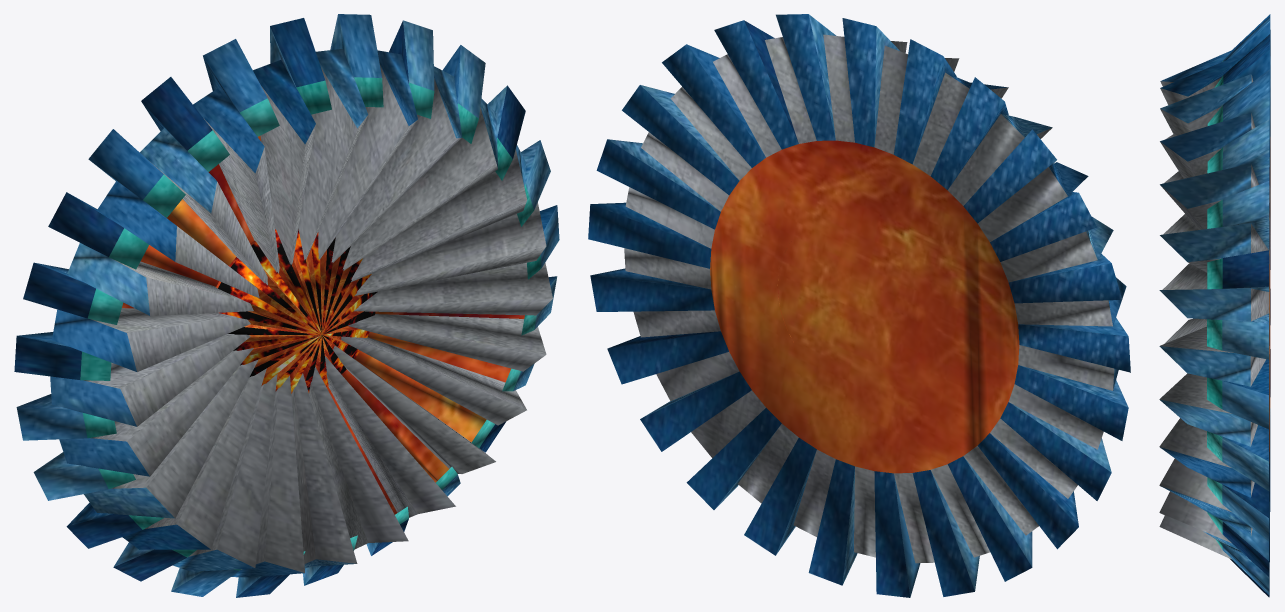
File: portail.obj
The picture shows the model from 3 angles, left to right: view 1: azimuth 30°, elevation 25°; view 2: azimuth 150°, elevation 25°; view 3: azimuth 270°, elevation 25°; orthographic projection. The views are drawn at different scales.
Parts seen in each view (by area): view 1: Cone, Cone.002; view 2: Cone; view 3: Cone.
Part boxes in pixels (x1,y1,x2,y2): Cone: (14, 14, 559, 597); Cone.002: (215, 229, 377, 393); Cone: (588, 14, 1130, 597); Cone: (1159, 14, 1270, 597).
Size of the model in its own units: 26.11 by 26.05 by 4.99.
Materials: 7 (7 with a texture image).
